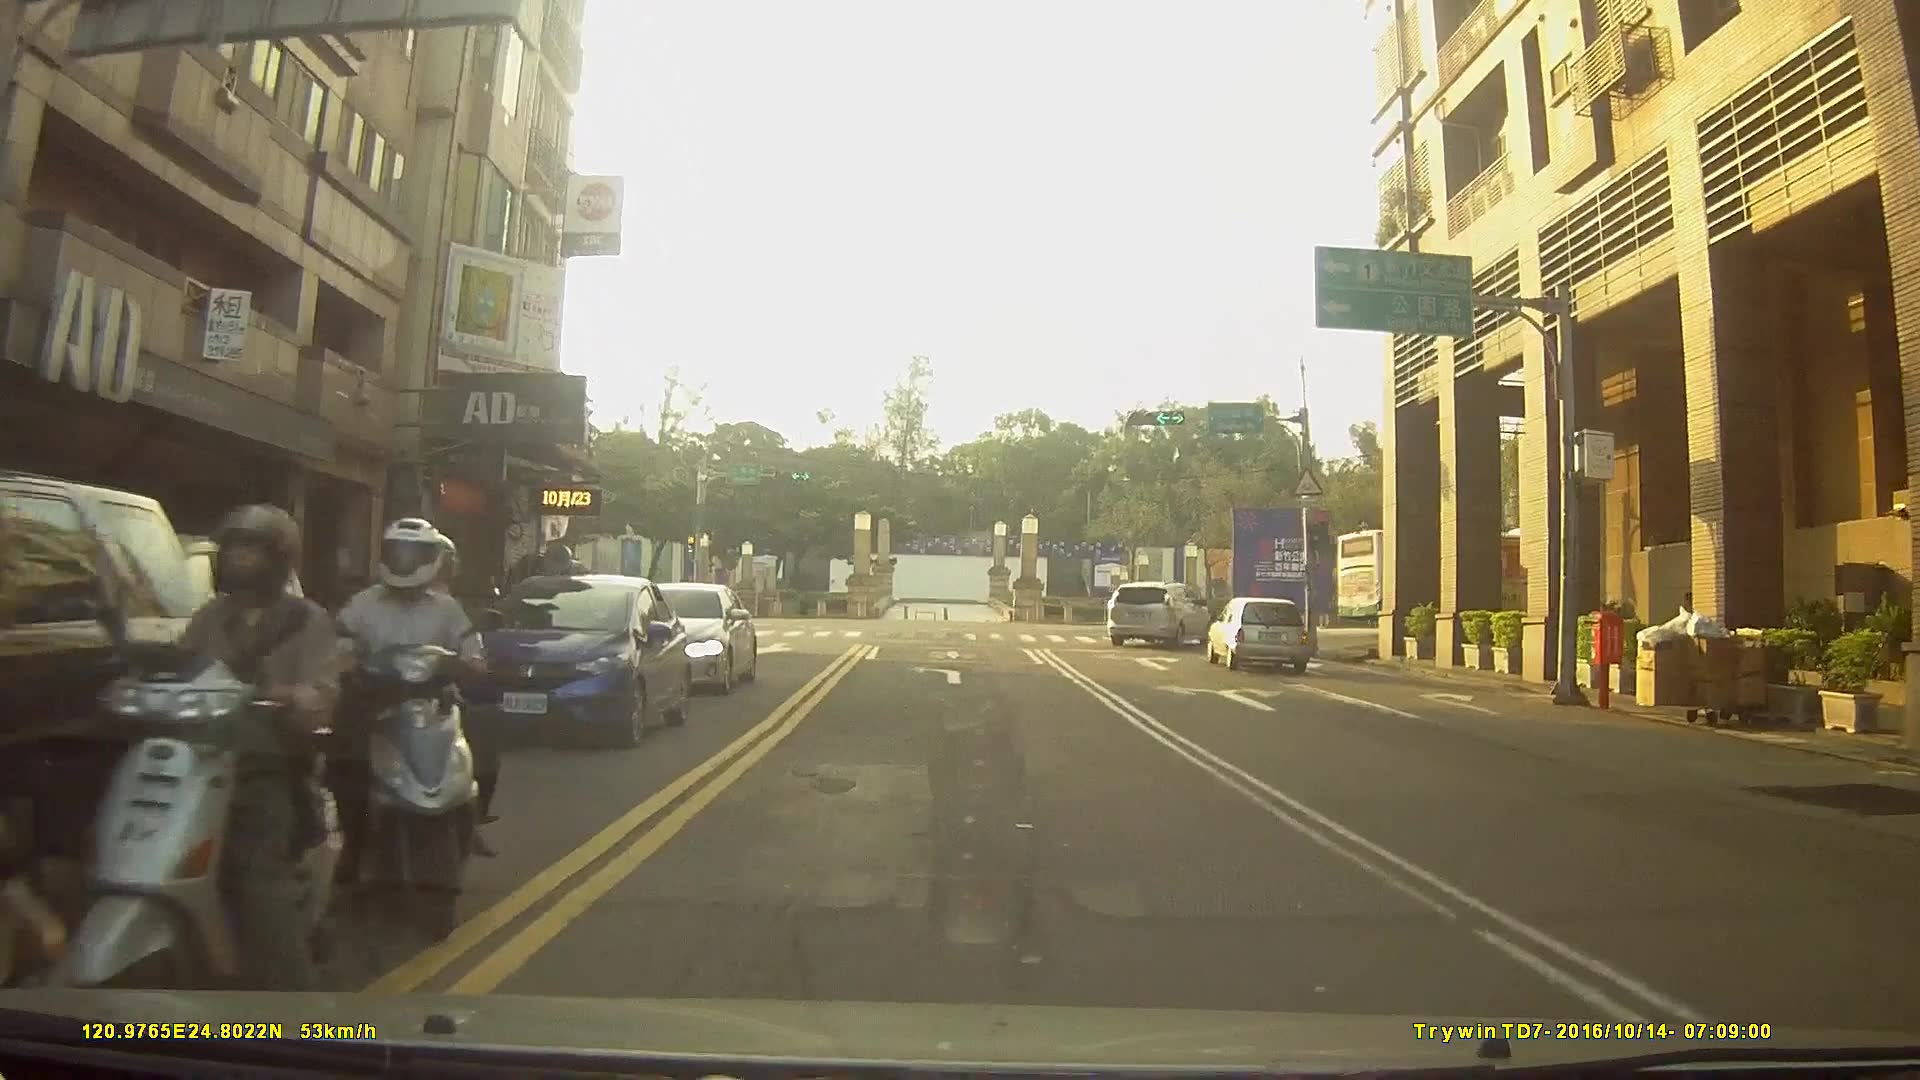rider: (55, 506, 332, 1022), (309, 517, 509, 960)
vehicle: (445, 574, 689, 752), (1334, 526, 1600, 628), (595, 581, 753, 695), (1205, 594, 1309, 670), (1108, 580, 1214, 647)
